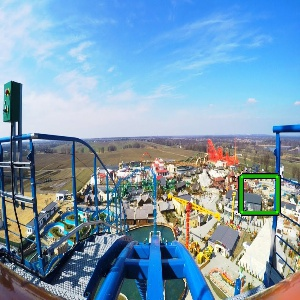square: (237, 172, 281, 217)
